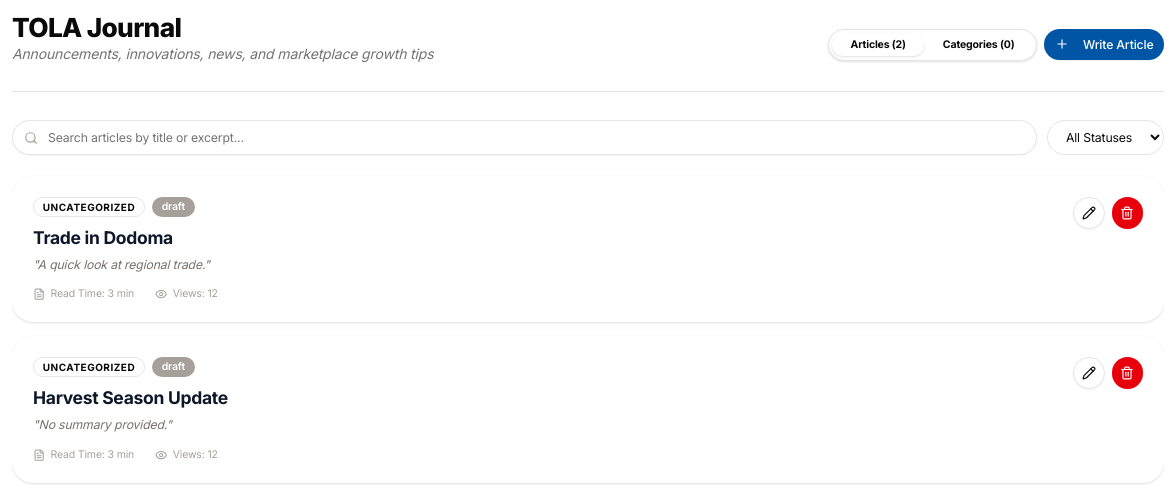
Test: BlogManagementTab › narrows the list to a title search match
Type "harvest" into the field with placeholder "Search articles by title or excerpt..." at coordinates (524, 138), box [12, 120, 1036, 155]
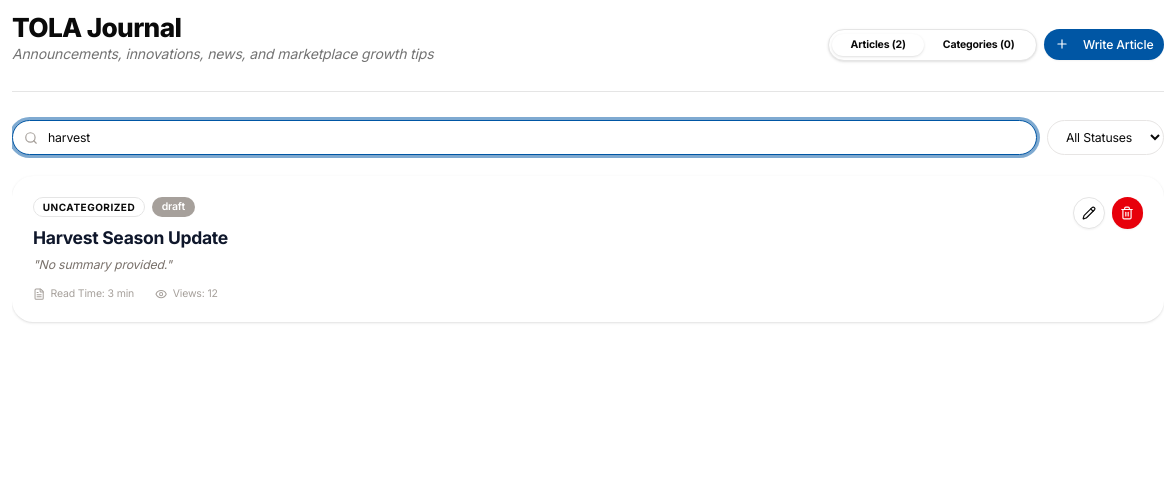
Expected: the heading "Harvest Season Update" is shown, [33, 227, 228, 248]
Expected: the heading "Trade in Dodoma" is gone
